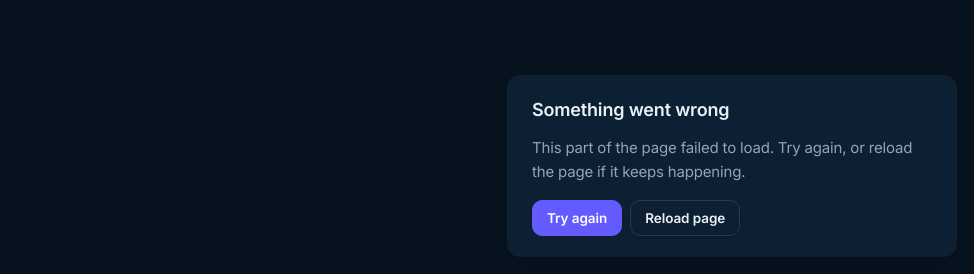
ErrorBoundary › renders the children again after "Try again" once the cause is gone
What coordinates should you click on to do the following:
click the button "Try again"
I would click on:
 (577, 218)
Its box is [532, 200, 622, 236].
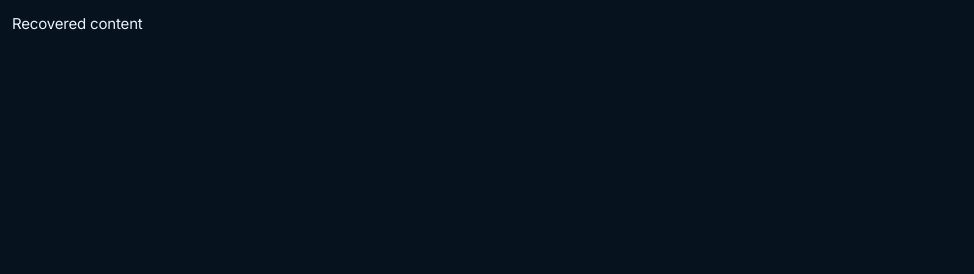
Now the text "Recovered content" is shown, box [12, 14, 143, 33]
